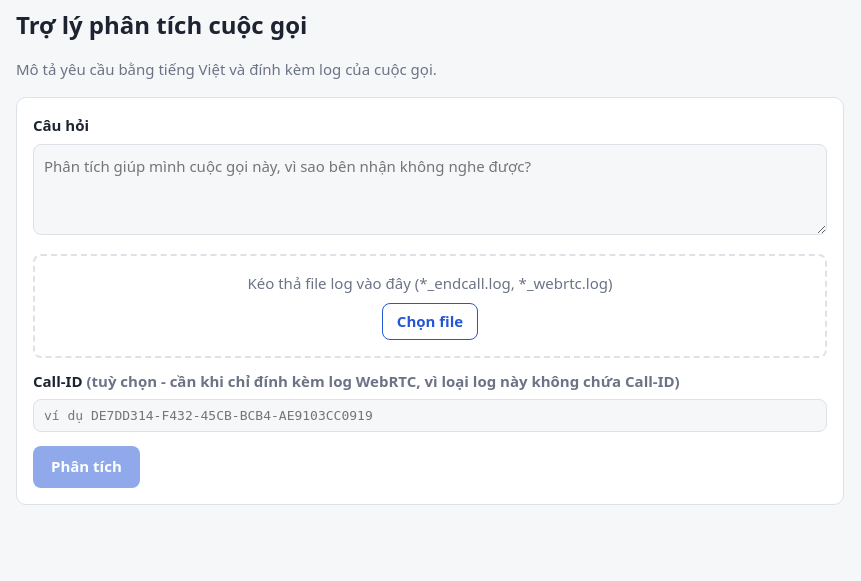
App › shows the friendly server error instead of crashing
The width and height of the screenshot is (861, 581).
In the text box labelled "Câu hỏi": (430, 190) [33, 144, 827, 236], type "Phân tích"
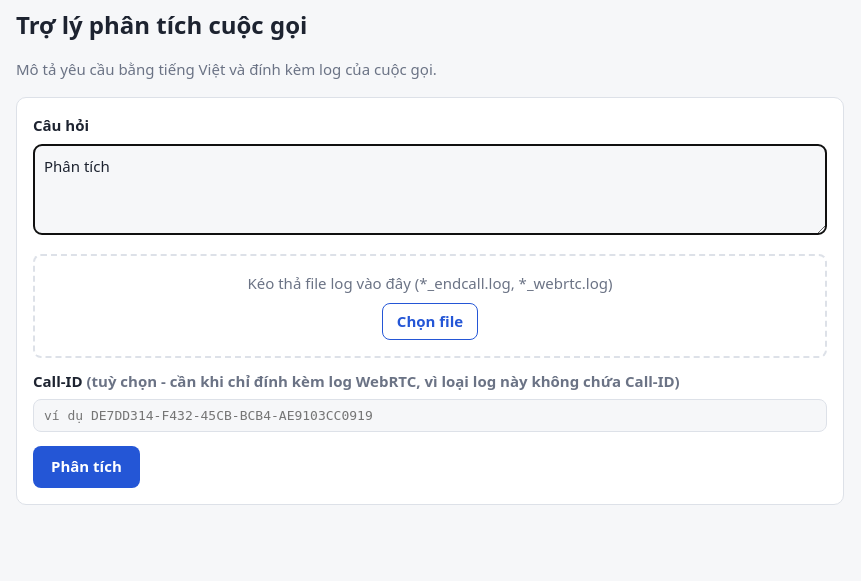
Click the button "Phân tích": (86, 467) [33, 446, 140, 488]
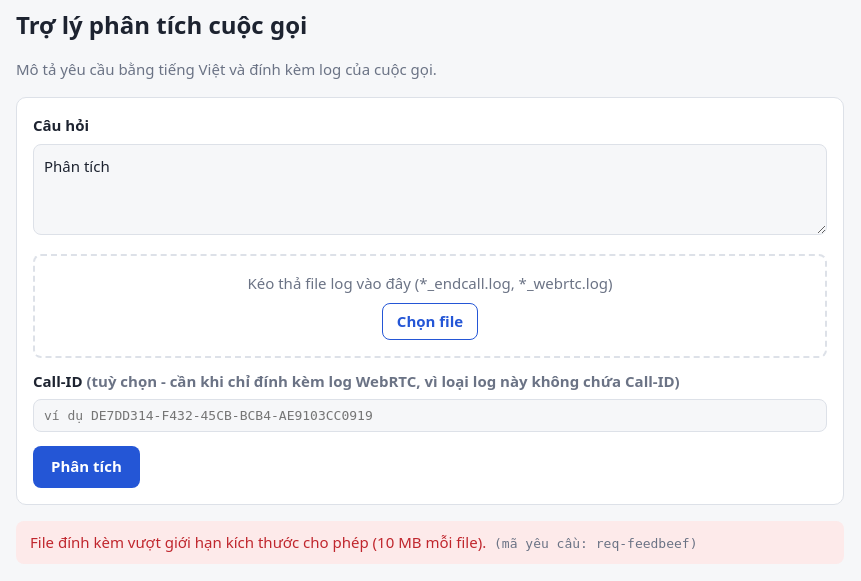
Now the message shows "vượt giới hạn kích thước", box [30, 532, 486, 552]
Now the message shows "req-feedbeef", box [596, 536, 690, 551]
